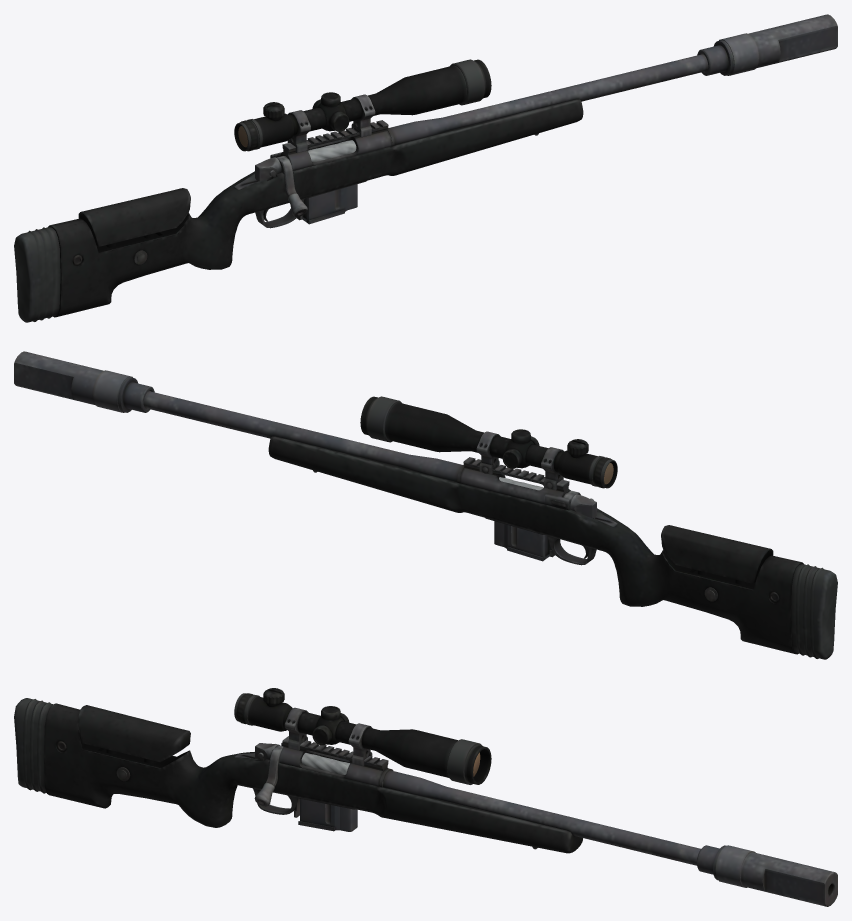
Rendered from sniper.6b9093cd4c.glb.
3 renders of one model, top to bottom at view 1: azimuth 30°, elevation 25°; view 2: azimuth 150°, elevation 25°; view 3: azimuth 330°, elevation 25°, orthographic.
Visible parts, largest first — view 1: base, scope, silencer, cheekrest, mag, bolt; view 2: base, scope, silencer, cheekrest, mag; view 3: base, scope, silencer, cheekrest, mag, bolt.
Part boxes in pixels (box(x1,y1,x2,y2)): base: box(14, 53, 708, 322); scope: box(234, 59, 491, 152); silencer: box(697, 14, 837, 75); cheekrest: box(78, 188, 190, 247); mag: box(302, 184, 357, 224); bolt: box(276, 140, 356, 216); base: box(143, 390, 837, 659); scope: box(360, 396, 617, 490); silencer: box(14, 351, 154, 412); cheekrest: box(661, 525, 773, 584); mag: box(494, 521, 550, 561); base: box(14, 698, 700, 865); scope: box(234, 688, 491, 784); silencer: box(697, 845, 837, 906); cheekrest: box(78, 705, 190, 763); mag: box(298, 798, 357, 831); bolt: box(254, 745, 349, 806).
Bounding box in the file's own units: 1.43 × 0.2647 × 0.0995.
Materials: 2 (1 with a texture image).
